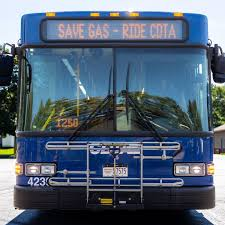bus: (3, 9, 225, 214)
